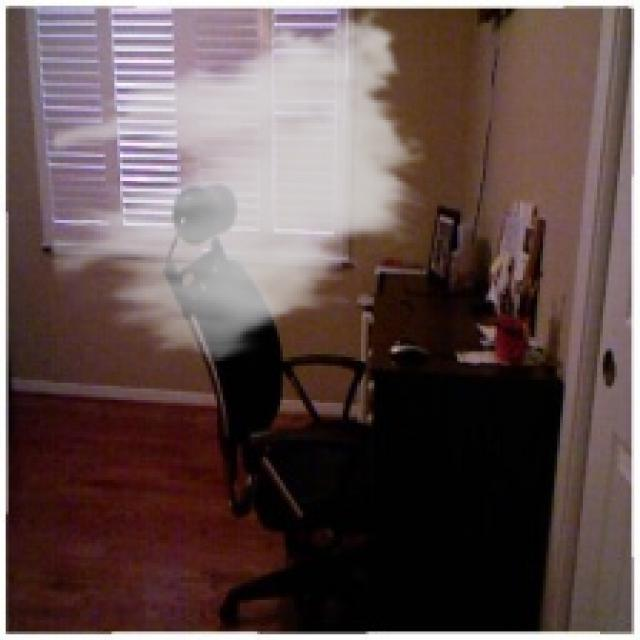Smoke: (51, 0, 429, 372)
